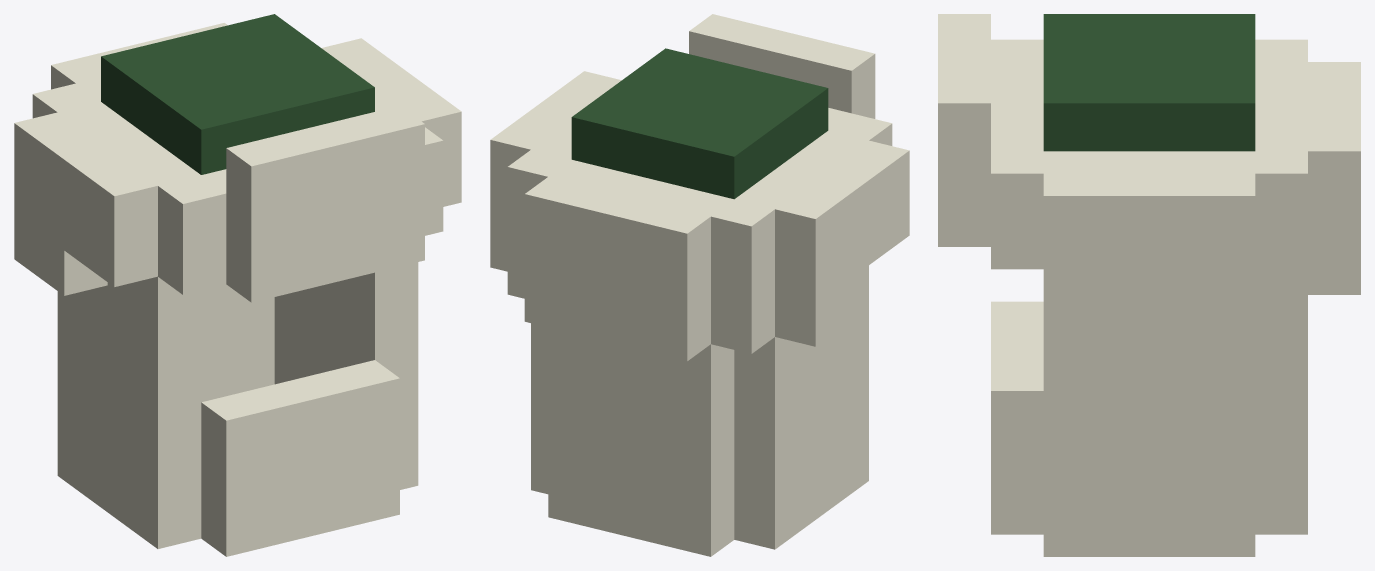
Rendered from char-180-helm_lgt_2e_sh.obj.
3 views of the same model, side by side, from view 1: azimuth 30°, elevation 25°; view 2: azimuth 150°, elevation 25°; view 3: azimuth 270°, elevation 25° (orthographic). The views are drawn at different scales.
Visible parts, largest first — view 1: helm_lgt_2e_sh; view 2: helm_lgt_2e_sh; view 3: helm_lgt_2e_sh.
Part boxes in pixels (x1,y1,x2,y2): helm_lgt_2e_sh: (14,14,461,556); helm_lgt_2e_sh: (490,14,909,556); helm_lgt_2e_sh: (938,14,1360,556).
Bounding box in the file's own units: 0.8 × 0.9 × 0.8.
1 material, 1 textured.
